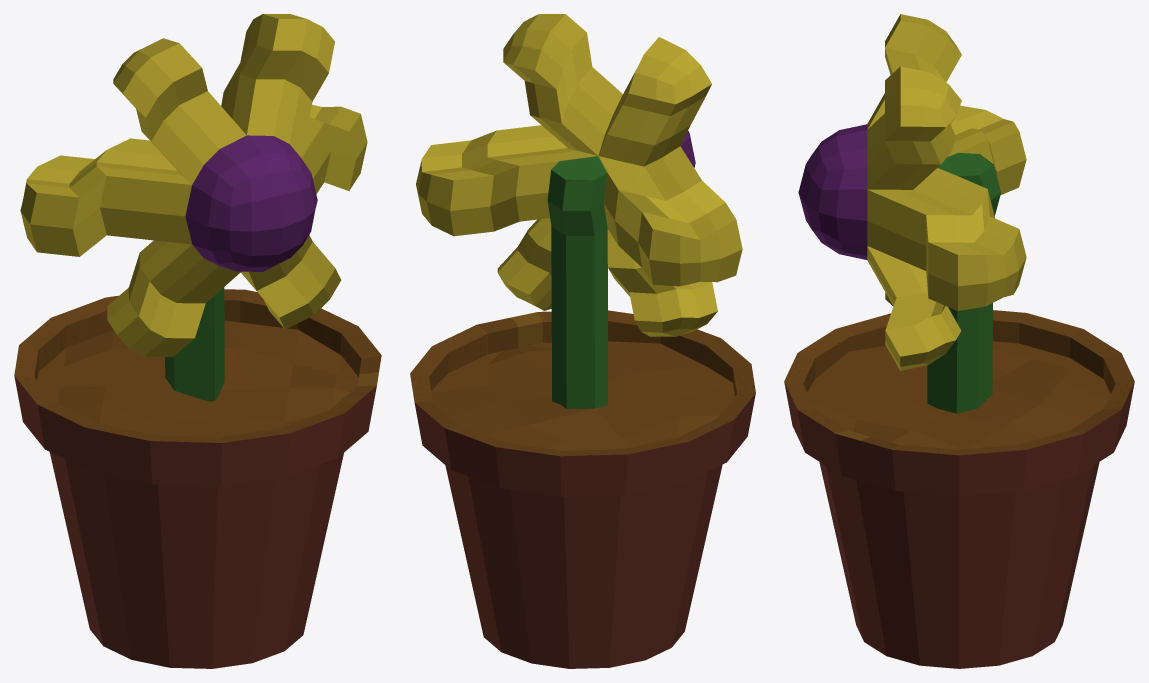
File: SC_Pot.fbx
The picture shows the model from 3 angles, left to right: view 1: azimuth 30°, elevation 25°; view 2: azimuth 150°, elevation 25°; view 3: azimuth 270°, elevation 25°; orthographic projection. The views are drawn at different scales.
Visible parts, largest first — view 1: SC_Maceta, O_Plant; view 2: SC_Maceta, O_Plant; view 3: SC_Maceta, O_Plant.
Boxes of the visible parts, left/top/right/bottom form: SC_Maceta: left=14, top=289, right=381, bottom=668; O_Plant: left=20, top=14, right=367, bottom=401; SC_Maceta: left=410, top=310, right=755, bottom=668; O_Plant: left=416, top=14, right=742, bottom=408; SC_Maceta: left=784, top=310, right=1134, bottom=668; O_Plant: left=798, top=14, right=1026, bottom=413.
Size of the model in its own units: 236 by 411 by 225.
